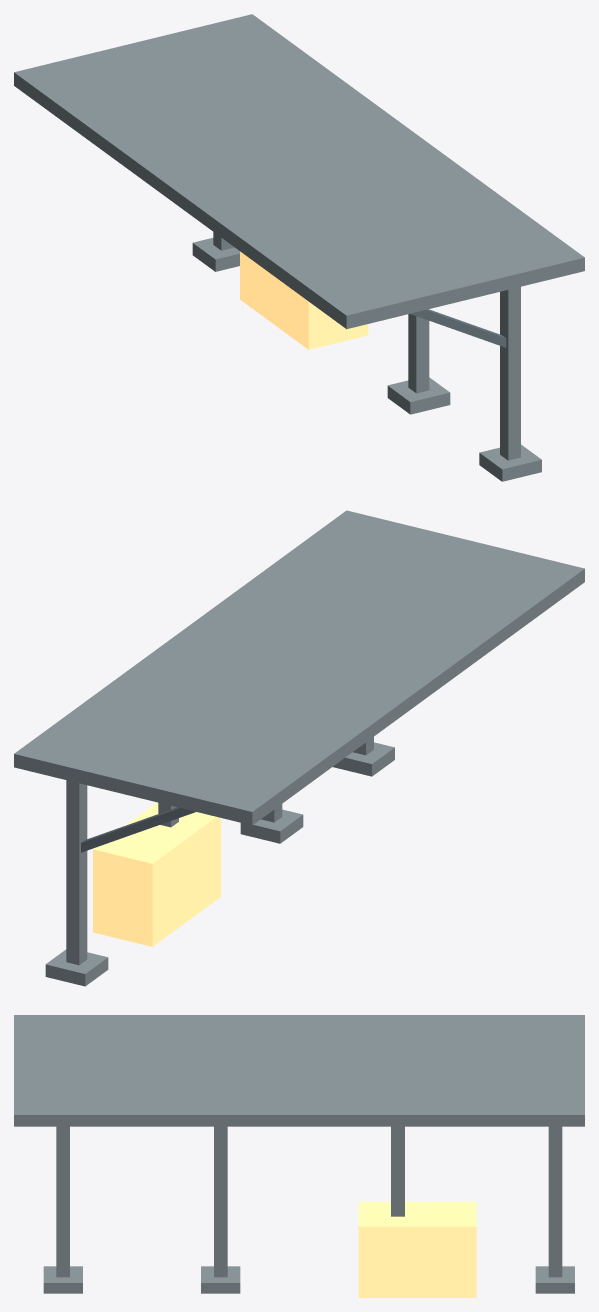
Rendered from vrx_city_canopy_a_LOD1.fbx.
3 views of the same model, one above another, from view 1: azimuth 30°, elevation 25°; view 2: azimuth 150°, elevation 25°; view 3: azimuth 270°, elevation 25° (orthographic). The views are drawn at different scales.
Parts seen in each view (by area): view 1: vrx_city_canopy_a_LOD1; view 2: vrx_city_canopy_a_LOD1; view 3: vrx_city_canopy_a_LOD1.
Part boxes in pixels (x1=…): vrx_city_canopy_a_LOD1: x1=14, y1=14, x2=584, y2=481; vrx_city_canopy_a_LOD1: x1=14, y1=510, x2=584, y2=986; vrx_city_canopy_a_LOD1: x1=14, y1=1015, x2=584, y2=1297.
Bounding box in the file's own units: 12 × 10.62 × 29.
